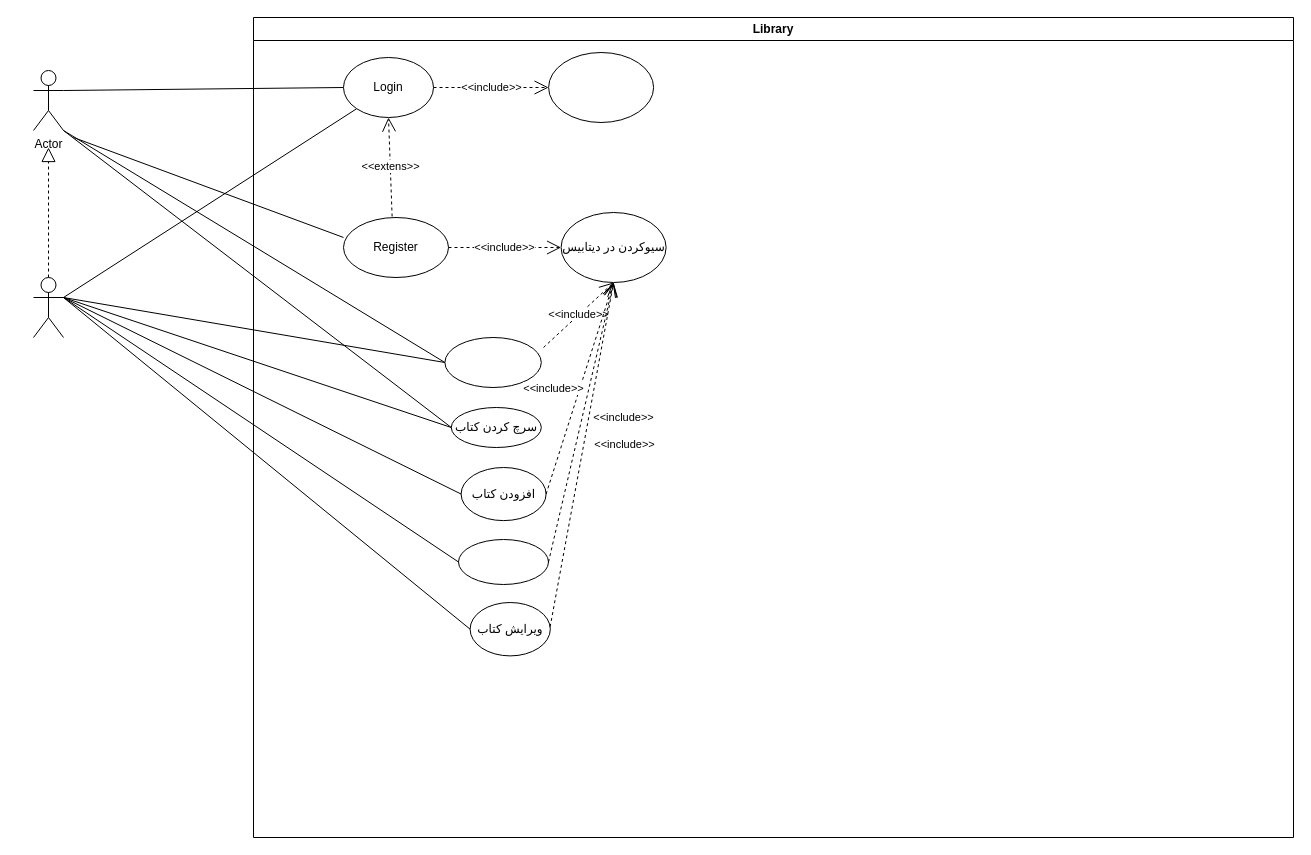
This 1311x855 diagram has some shape labels left out. Each missing label, with the box of its shape:
Admin User: (32, 276, 64, 338)
حذف کردن کتاب: (458, 538, 548, 584)
قرض کردن/ پس دادن کتاب: (444, 336, 541, 388)
لود کردن دیتابیس: (548, 52, 654, 122)
